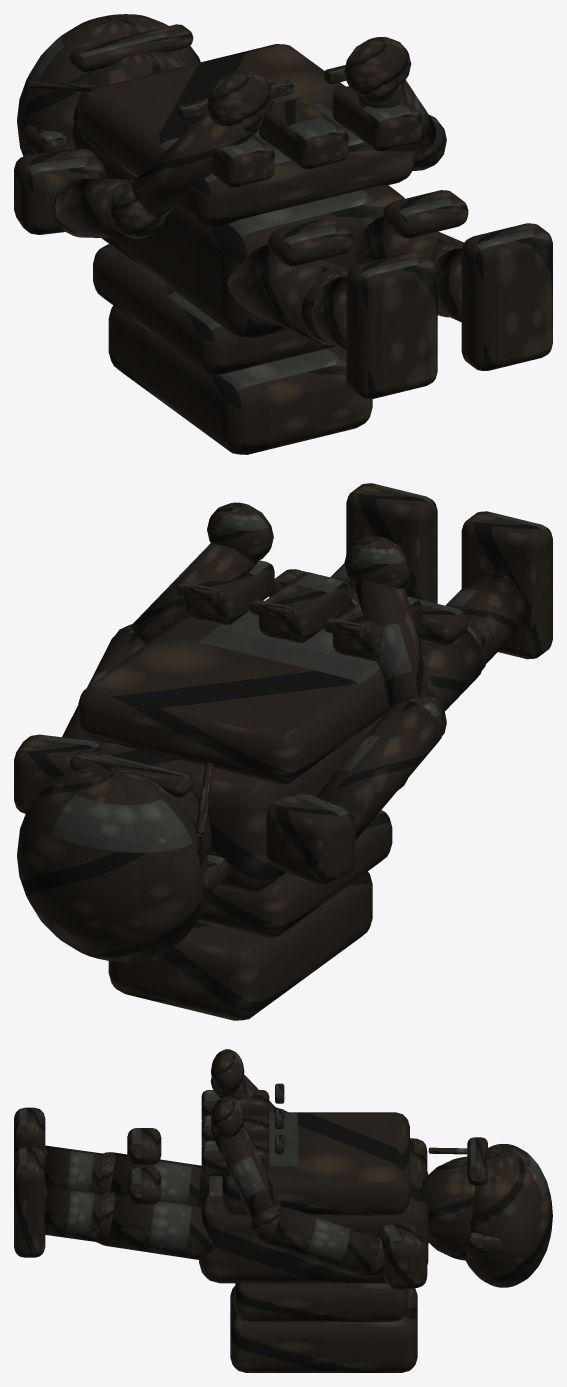
The model's file is enemy_tactical_candidate.glb.
3 renders of one model, top to bottom at view 1: azimuth 30°, elevation 25°; view 2: azimuth 150°, elevation 25°; view 3: azimuth 270°, elevation 25°, orthographic. The views are drawn at different scales.
Visible parts, largest first — view 1: front_plate_carrier_with_beveled_ceramic_panel, hydration_backpack_and_radio_pack, anatomical_torso_underlayer, boot_with_sculpted_sole_-0.18, boot_with_sculpted_sole_0.18, rear_plate_carrier_panel, ballistic_helmet_shell, forearm_glove_sleeve_-0.39, upper_leg_fatigues_-0.18, shoulder_armor_pad_-0.39, front_magazine_pouch_0, front_magazine_pouch_0.23 (+17 smaller); view 2: front_plate_carrier_with_beveled_ceramic_panel, ballistic_helmet_shell, hydration_backpack_and_radio_pack, anatomical_torso_underlayer, boot_with_sculpted_sole_-0.18, upper_arm_cloth_-0.39, rear_plate_carrier_panel, shoulder_armor_pad_-0.39, boot_with_sculpted_sole_0.18, forearm_glove_sleeve_-0.39, front_magazine_pouch_0, lower_leg_boot_gaiter_-0.18 (+16 smaller); view 3: front_plate_carrier_with_beveled_ceramic_panel, hydration_backpack_and_radio_pack, anatomical_torso_underlayer, ballistic_helmet_shell, rear_plate_carrier_panel, upper_leg_fatigues_0.18, upper_arm_cloth_0.39, human_face_visible_under_helmet, boot_with_sculpted_sole_0.18, forearm_glove_sleeve_0.39, lower_leg_boot_gaiter_0.18, shoulder_armor_pad_0.39 (+16 smaller).
Boxes of the visible parts, left/top/right/bottom form: front_plate_carrier_with_beveled_ceramic_panel: left=78, top=44, right=414, bottom=227; hydration_backpack_and_radio_pack: left=108, top=305, right=372, bottom=454; anatomical_torso_underlayer: left=85, top=141, right=404, bottom=337; boot_with_sculpted_sole_-0.18: left=346, top=251, right=437, bottom=399; boot_with_sculpted_sole_0.18: left=461, top=223, right=552, bottom=370; rear_plate_carrier_panel: left=93, top=244, right=335, bottom=374; ballistic_helmet_shell: left=17, top=14, right=200, bottom=156; forearm_glove_sleeve_-0.39: left=131, top=111, right=256, bottom=218; upper_leg_fatigues_-0.18: left=227, top=244, right=348, bottom=343; shoulder_armor_pad_-0.39: left=14, top=148, right=106, bottom=234; front_magazine_pouch_0: left=259, top=98, right=348, bottom=169; front_magazine_pouch_0.23: left=332, top=86, right=421, bottom=151; front_plate_carrier_with_beveled_ceramic_panel: left=78, top=610, right=388, bottom=784; ballistic_helmet_shell: left=17, top=766, right=207, bottom=962; hydration_backpack_and_radio_pack: left=108, top=871, right=372, bottom=1020; anatomical_torso_underlayer: left=93, top=713, right=407, bottom=892; boot_with_sculpted_sole_-0.18: left=461, top=511, right=552, bottom=659; upper_arm_cloth_-0.39: left=315, top=700, right=441, bottom=840; rear_plate_carrier_panel: left=197, top=810, right=392, bottom=937; shoulder_armor_pad_-0.39: left=266, top=792, right=354, bottom=885; boot_with_sculpted_sole_0.18: left=346, top=483, right=437, bottom=603; forearm_glove_sleeve_-0.39: left=354, top=580, right=435, bottom=708; front_magazine_pouch_0: left=259, top=572, right=348, bottom=643; lower_leg_boot_gaiter_-0.18: left=445, top=571, right=526, bottom=663; front_plate_carrier_with_beveled_ceramic_panel: left=222, top=1112, right=409, bottom=1215; hydration_backpack_and_radio_pack: left=230, top=1286, right=417, bottom=1372; anatomical_torso_underlayer: left=199, top=1154, right=428, bottom=1283; ballistic_helmet_shell: left=465, top=1144, right=552, bottom=1287; rear_plate_carrier_panel: left=235, top=1283, right=407, bottom=1321; upper_leg_fatigues_0.18: left=106, top=1192, right=214, bottom=1260; upper_arm_cloth_0.39: left=265, top=1205, right=379, bottom=1275; human_face_visible_under_helmet: left=422, top=1156, right=475, bottom=1260; boot_with_sculpted_sole_0.18: left=14, top=1147, right=45, bottom=1257; forearm_glove_sleeve_0.39: left=212, top=1123, right=281, bottom=1219; lower_leg_boot_gaiter_0.18: left=44, top=1185, right=103, bottom=1241; shoulder_armor_pad_0.39: left=377, top=1223, right=427, bottom=1289.
Bounding box in the file's own units: 0.9092 × 1.03 × 1.82.
1 material, 1 textured.
